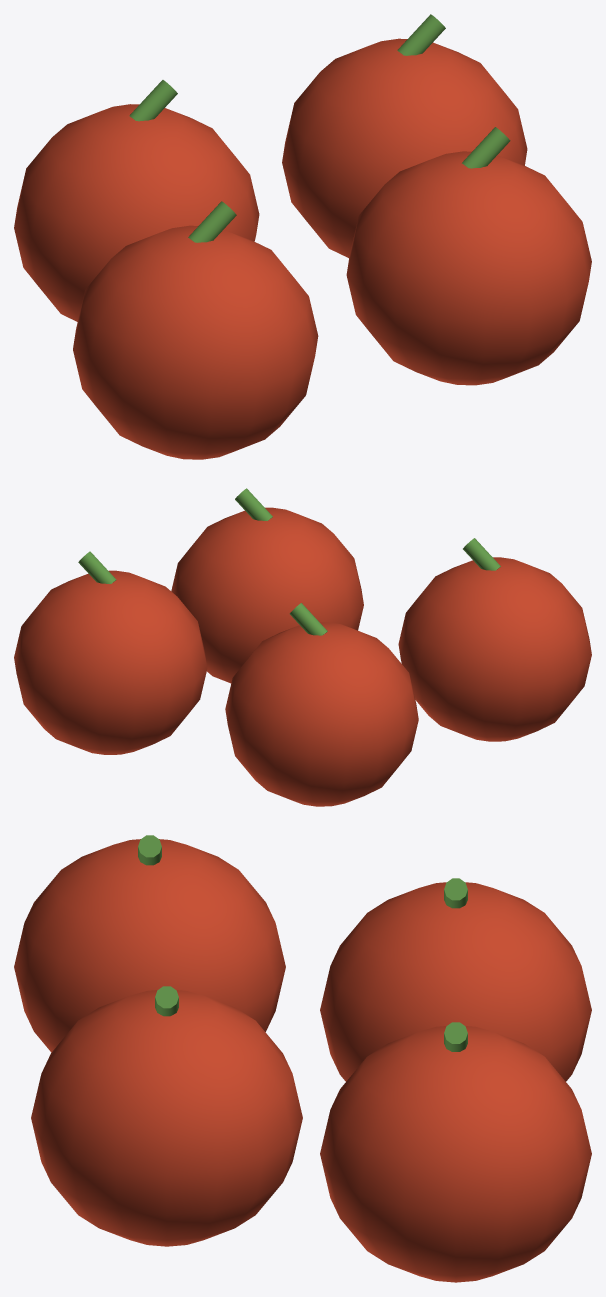
The model's file is sku_tomatoes.glb.
The picture shows the model from 3 angles, top to bottom: view 1: azimuth 30°, elevation 25°; view 2: azimuth 150°, elevation 25°; view 3: azimuth 270°, elevation 25°; orthographic projection. The views are drawn at different scales.
Visible parts, largest first — view 1: sku_tomatoes_FY21_tomato, sku_tomatoes_FY21_fresh_leaf; view 2: sku_tomatoes_FY21_tomato, sku_tomatoes_FY21_fresh_leaf; view 3: sku_tomatoes_FY21_tomato, sku_tomatoes_FY21_fresh_leaf.
Boxes of the visible parts, bbox=[...] form: sku_tomatoes_FY21_tomato: bbox=[14, 38, 591, 459]; sku_tomatoes_FY21_fresh_leaf: bbox=[129, 14, 510, 242]; sku_tomatoes_FY21_tomato: bbox=[14, 507, 591, 806]; sku_tomatoes_FY21_fresh_leaf: bbox=[78, 488, 500, 635]; sku_tomatoes_FY21_tomato: bbox=[14, 839, 591, 1282]; sku_tomatoes_FY21_fresh_leaf: bbox=[138, 835, 467, 1051].
Size of the model in its own units: 0.42 by 0.1702 by 0.34.
